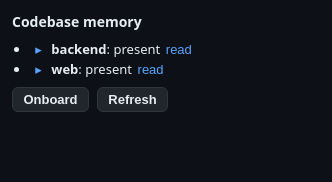
Test: MemoryPanelView › is collapsed when nothing is stale, and says when there are no topics
The width and height of the screenshot is (332, 182).
Check: the text "db-schema" is not shown
Click the button named "Show topics of backend" at (38, 50), box 30,42 -> 47,57
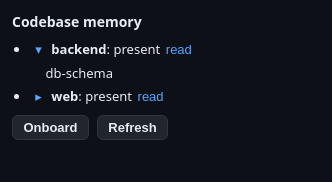
Check: the text "db-schema" is shown, box 46,64 -> 113,82
Click the button named "Show topics of web" at (38, 96), box 30,89 -> 47,104
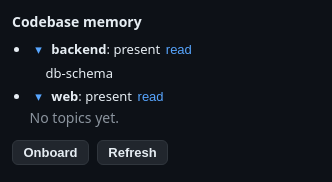
Check: the text "No topics yet." is shown, box 30,108 -> 119,126
